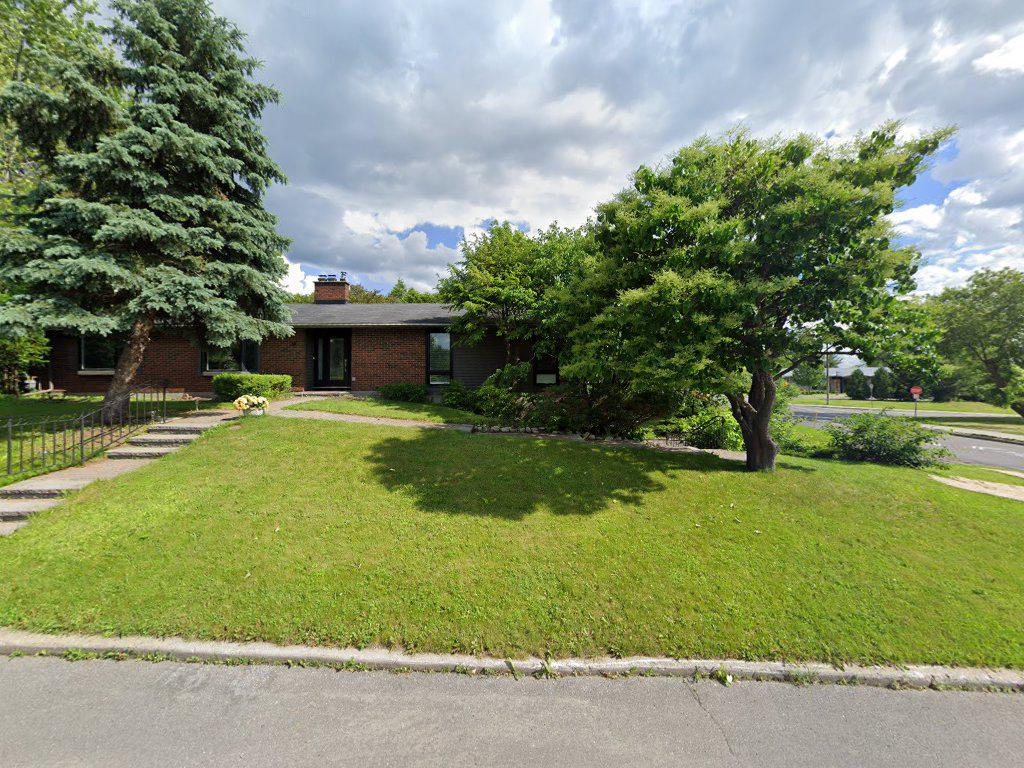trunk: (103, 314, 151, 426), (736, 378, 780, 476)
